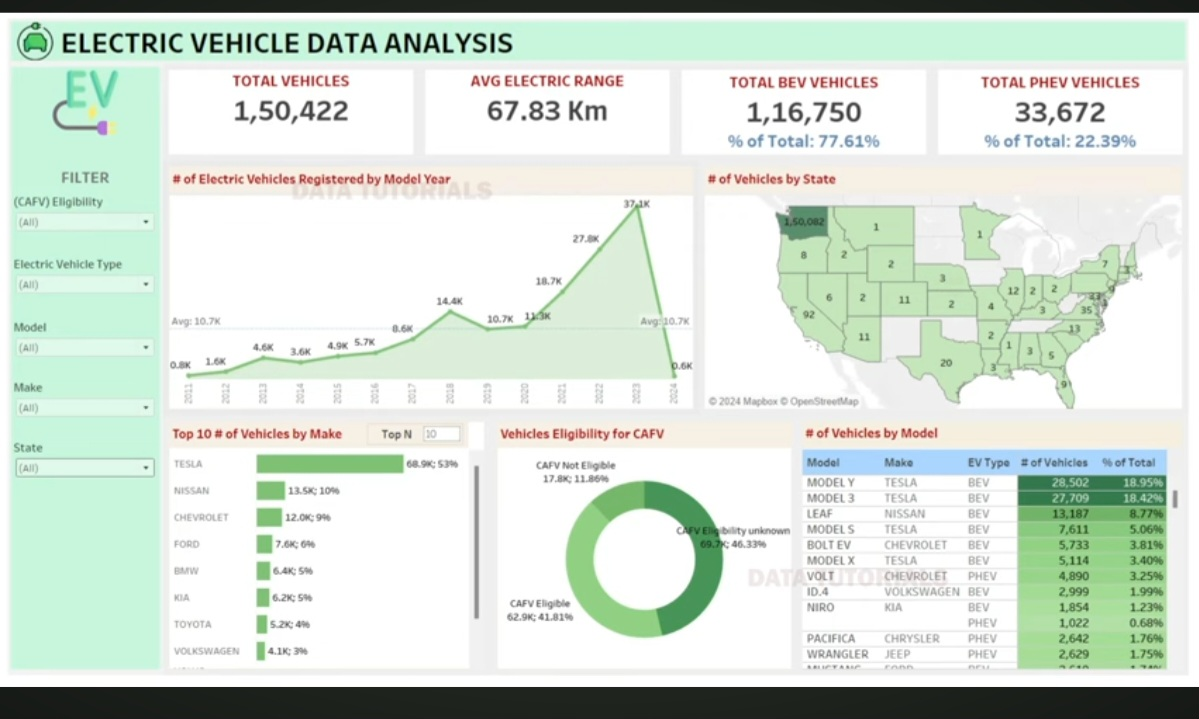

What the dashboard file says about the page in this screenshot:
{"tool":"tableau","page":{"name":"Dashboard 1","canvas":[1550,900],"ordinal":0},"visuals":[{"type":"title","box":[8,8,1534,51]},{"type":"legend","title":"Total Vehicle by State","param":"[federated.0jspu830t9v05w179qcx70k43dzu].[usr:Calculation_1440307477954940928:qk","box":[8,59,227,73]},{"type":"worksheet","title":"Total Vehicles","mark":"Automatic","box":[235,59,327,105]},{"type":"worksheet","title":"AVG Electric Range","mark":"Automatic","box":[562,59,327,105]},{"type":"worksheet","title":"Total BEV Vehicles","mark":"Automatic","box":[889,59,327,105]},{"type":"worksheet","title":"Total PHEV Vehicles","mark":"Automatic","box":[1216,59,326,105]},{"type":"filter","title":"Top 10 Total Vehicles By Make","param":"[federated.0jspu830t9v05w179qcx70k43dzu].[none:Electric Vehicle Type:nk]","box":[8,132,227,105]},{"type":"worksheet","title":"Total Vehicles by Model Year","mark":"Area","rows":["Calculation_1440307477954940928"],"cols":["Model Year"],"box":[235,164,654,340]},{"type":"worksheet","title":"Total Vehicle by State","mark":"Multipolygon","box":[889,164,653,340]},{"type":"parameter","param":"[Parameters].[Parameter 1]","box":[8,237,227,56]},{"type":"legend","title":"Total Vehicles by CAFV eligibity","param":"[federated.0jspu830t9v05w179qcx70k43dzu].[none:Clean Alternative Fuel Vehicle (C","box":[8,293,227,93]},{"type":"worksheet","title":"Top 10 Total Vehicles By Make","mark":"Automatic","rows":["Make"],"cols":["Calculation_1440307477954940928"],"box":[235,504,465,388]},{"type":"worksheet","title":"Total Vehicles by CAFV eligibity","mark":"Pie","rows":["Calculation_1440307477982089225","Calculation_1440307477982048263"],"box":[700,504,348,388]},{"type":"worksheet","title":"Total vehicles by Model","mark":"Square","rows":["Model","Make","Electric Vehicle Type"],"box":[1048,504,494,388]}]}

Visuals, with their boxes on the page's 1550x900 design canvas (x1, y1, x2, y2). These are canvas units, not pixel positions in the 1199x719 screenshot, which may show the page scaled, cropped or inside an application window:
title: region(8, 8, 1542, 59)
"Total Vehicle by State" legend: region(8, 59, 235, 132)
"Total Vehicles" worksheet: region(235, 59, 562, 164)
"AVG Electric Range" worksheet: region(562, 59, 889, 164)
"Total BEV Vehicles" worksheet: region(889, 59, 1216, 164)
"Total PHEV Vehicles" worksheet: region(1216, 59, 1542, 164)
"Top 10 Total Vehicles By Make" filter: region(8, 132, 235, 237)
"Total Vehicles by Model Year" worksheet (Area marks): region(235, 164, 889, 504)
"Total Vehicle by State" worksheet (Multipolygon marks): region(889, 164, 1542, 504)
parameter: region(8, 237, 235, 293)
"Total Vehicles by CAFV eligibity" legend: region(8, 293, 235, 386)
"Top 10 Total Vehicles By Make" worksheet: region(235, 504, 700, 892)
"Total Vehicles by CAFV eligibity" worksheet (Pie marks): region(700, 504, 1048, 892)
"Total vehicles by Model" worksheet (Square marks): region(1048, 504, 1542, 892)
